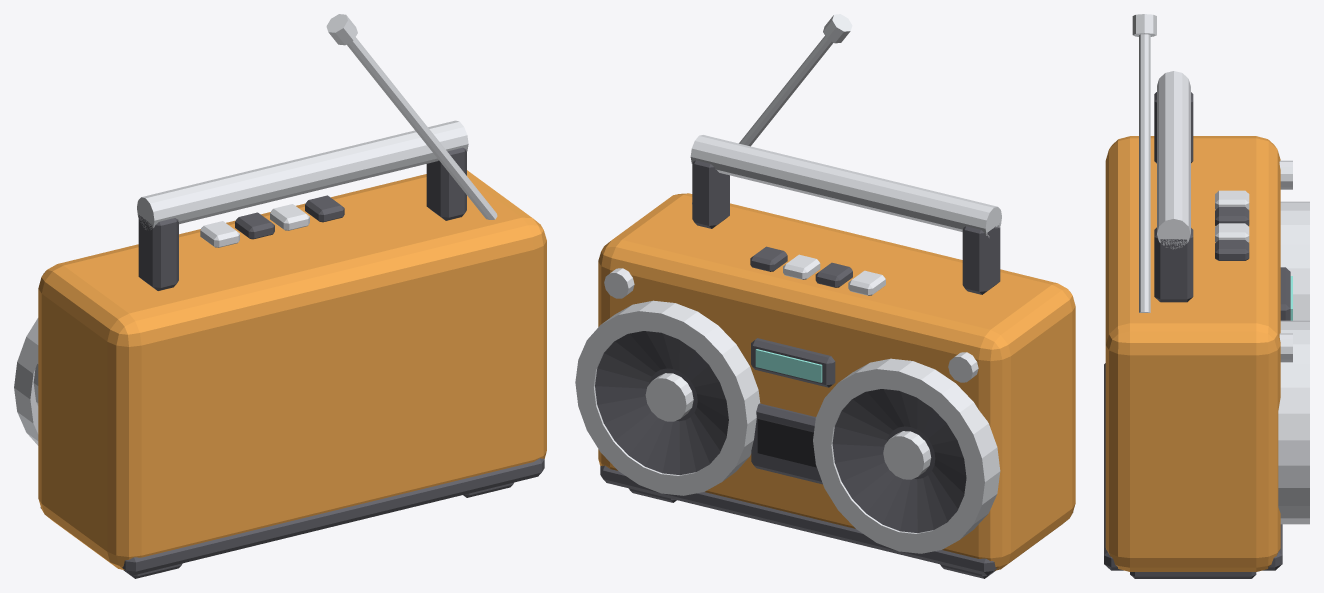
Rendered from Boombox.fbx.
3 renders of one model, left to right at view 1: azimuth 30°, elevation 25°; view 2: azimuth 150°, elevation 25°; view 3: azimuth 270°, elevation 25°, orthographic. The views are drawn at different scales.
Parts seen in each view (by area): view 1: Boombox; view 2: Boombox, Boombox_ConeL, Boombox_ConeR; view 3: Boombox.
Boxes of the visible parts, x1,y1,x2,y2 form: Boombox: (14,14,546,578); Boombox: (575,14,1075,578); Boombox_ConeL: (832,389,966,532); Boombox_ConeR: (595,331,728,474); Boombox: (1104,14,1309,578).
Size of the model in its own units: 1 by 1.11 by 0.4236.
